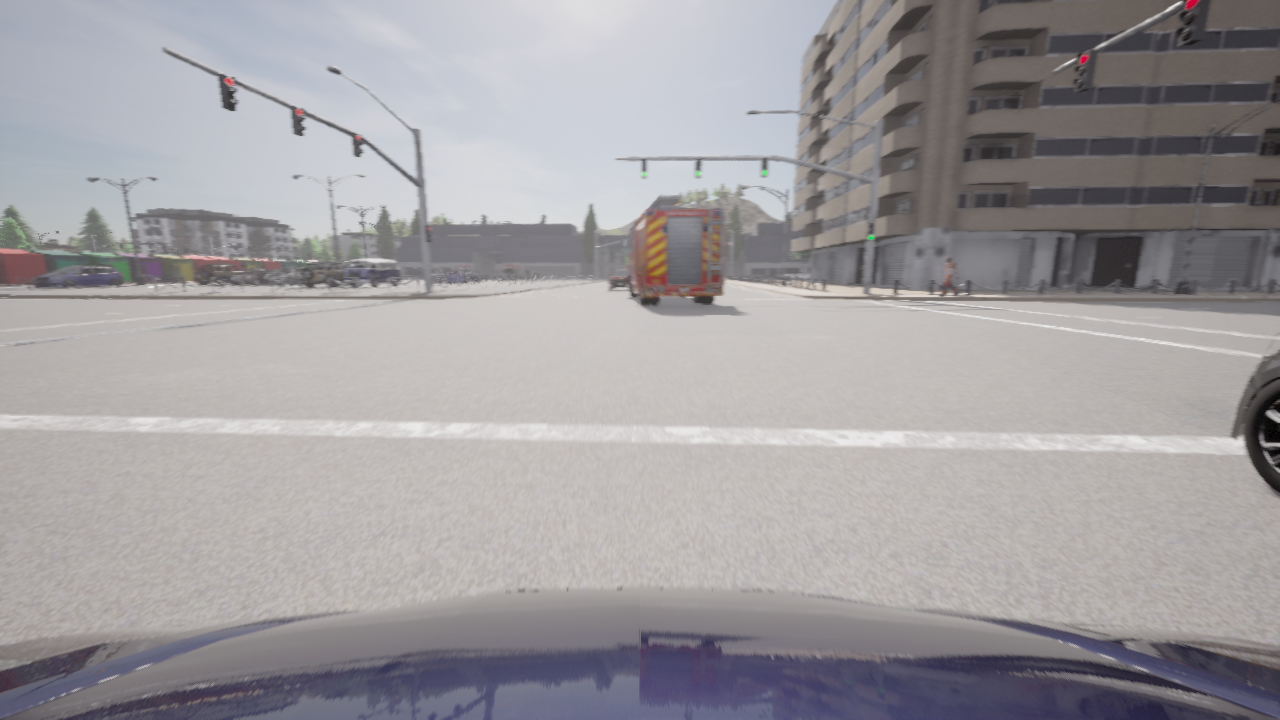cyclist: (0, 588, 1279, 719), (622, 195, 724, 304), (1230, 332, 1279, 493), (34, 266, 123, 287), (344, 259, 401, 287), (300, 262, 363, 287), (194, 264, 244, 285), (230, 269, 275, 285), (264, 269, 303, 285), (445, 268, 480, 283), (608, 269, 628, 290), (520, 268, 540, 280), (503, 268, 520, 280), (431, 270, 445, 282), (474, 271, 489, 280), (278, 266, 303, 271), (271, 270, 278, 272)
pedestrian: (938, 256, 958, 295)
